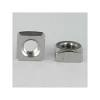Thread: (60, 42, 80, 53)
